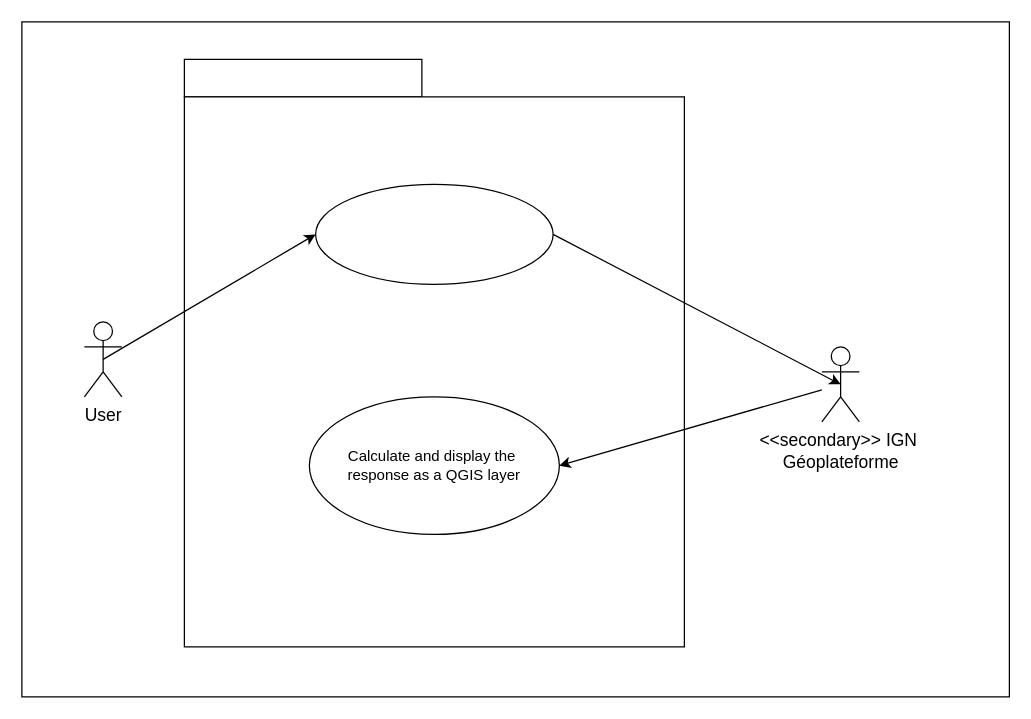
Image size: 1031x719. Some labels were removed from this diagram. Here are the shapes that lost their labels. From the top down, the box of each, then its label:
(183, 58, 422, 97): Isochrones IGN plugin (QGIS)
(314, 183, 553, 284): Make an isochrone request with chosen parameters
